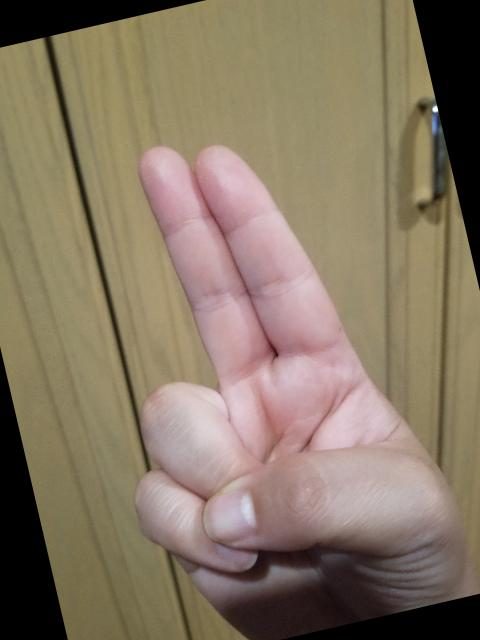U: (46, 90, 480, 640)
